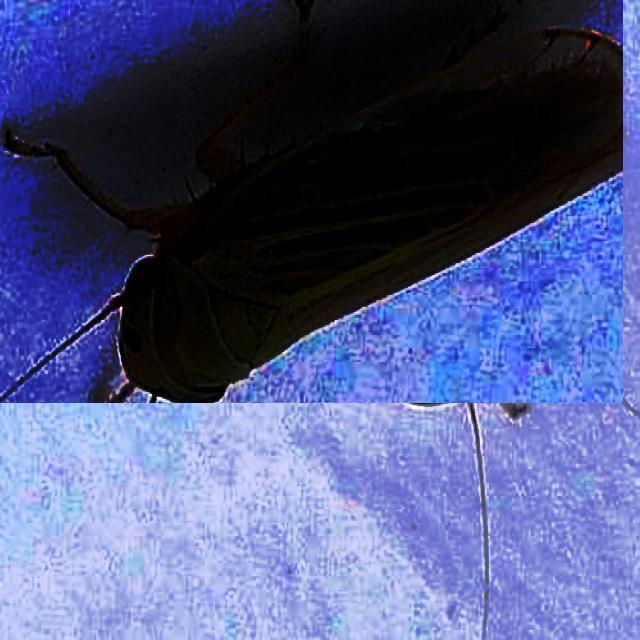green-leafhopper: (0, 0, 623, 403)
